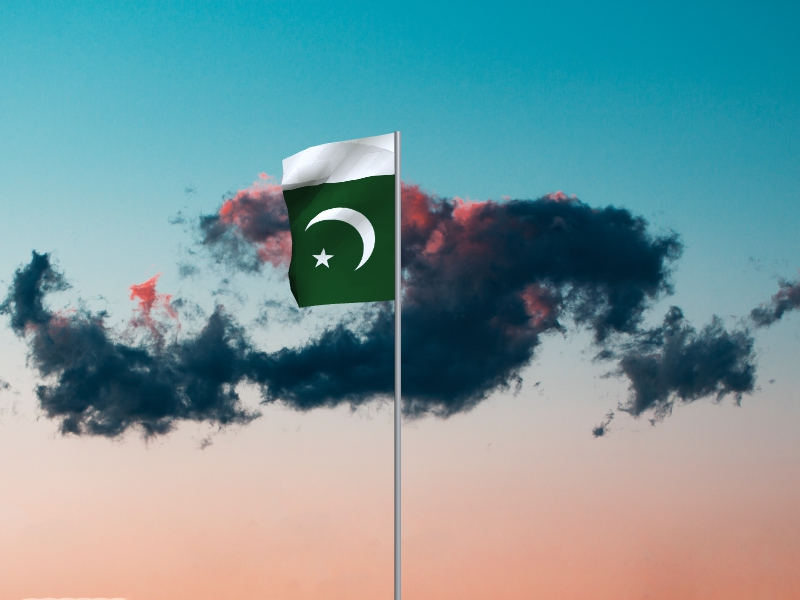pk: (282, 133, 395, 308)
